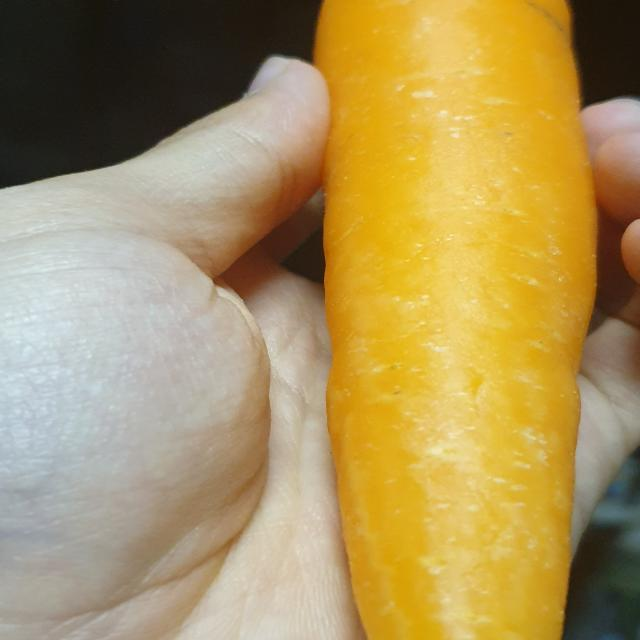Carrot: (301, 0, 612, 640)
